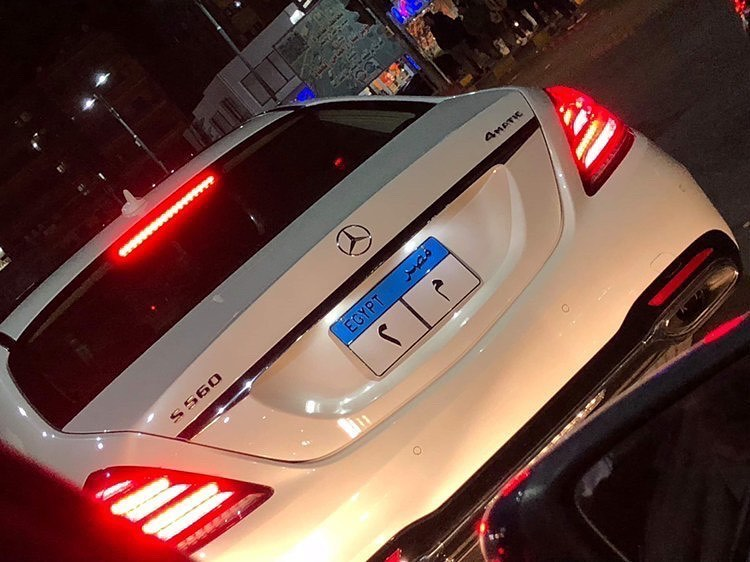carpl: (356, 246, 473, 358)
